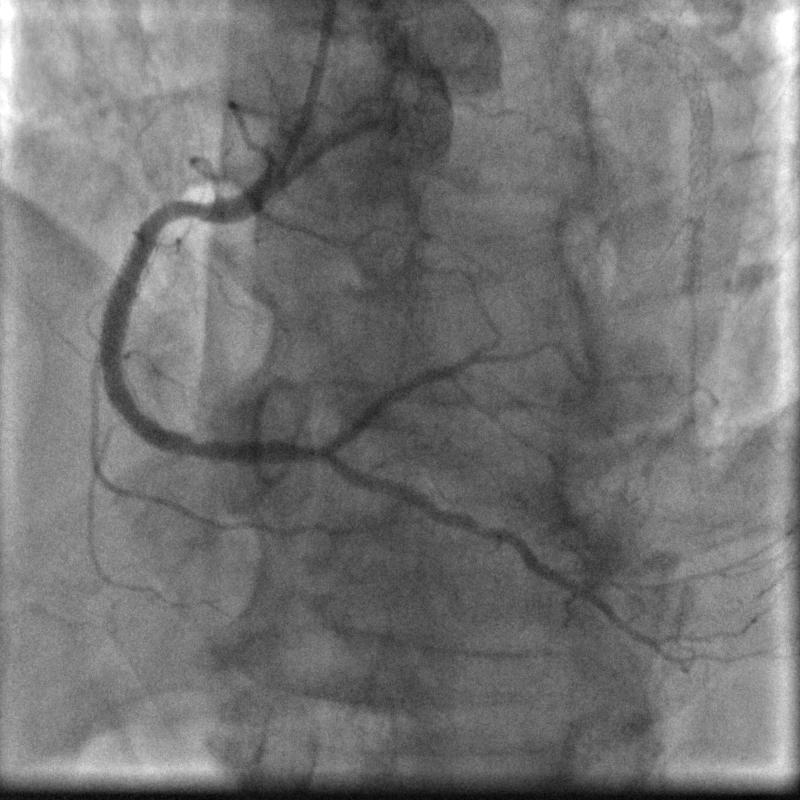Stenosis: (172, 185, 218, 229)
